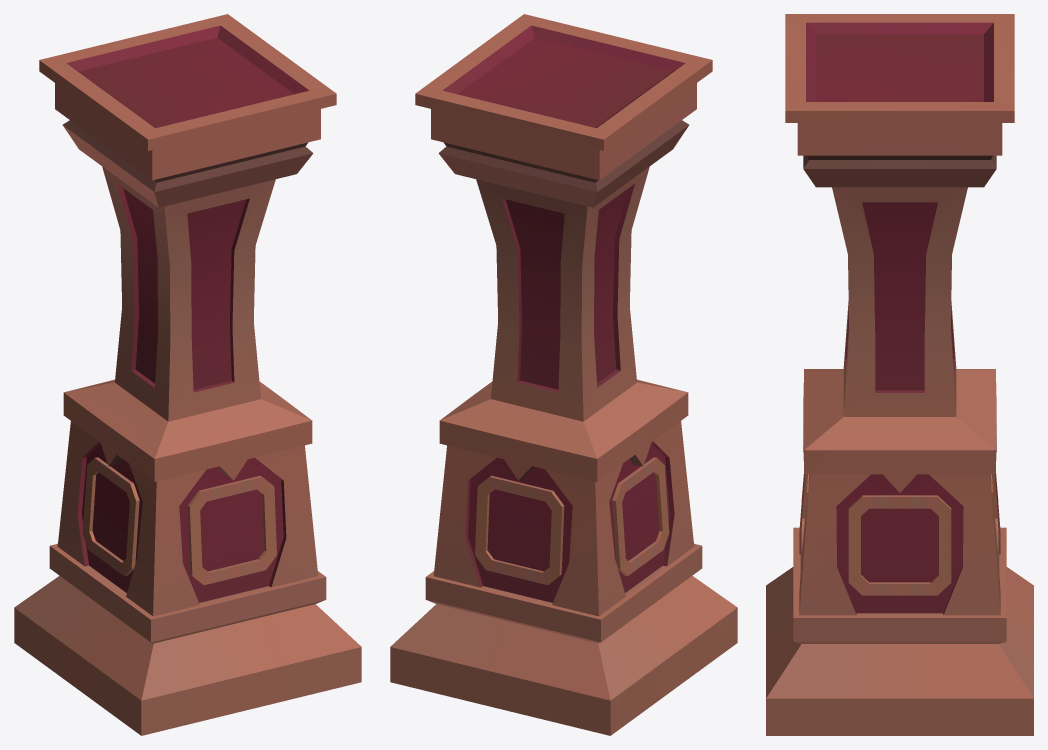
Rendered from altar.fbx.
3 views of the same model, side by side, from view 1: azimuth 30°, elevation 25°; view 2: azimuth 150°, elevation 25°; view 3: azimuth 270°, elevation 25° (orthographic). The views are drawn at different scales.
Visible parts, largest first — view 1: Cube; view 2: Cube; view 3: Cube.
Boxes of the visible parts, bbox=[...] form: Cube: bbox=[14, 14, 361, 735]; Cube: bbox=[390, 14, 737, 735]; Cube: bbox=[766, 14, 1033, 735].
Size of the model in its own units: 288 by 730 by 288.
